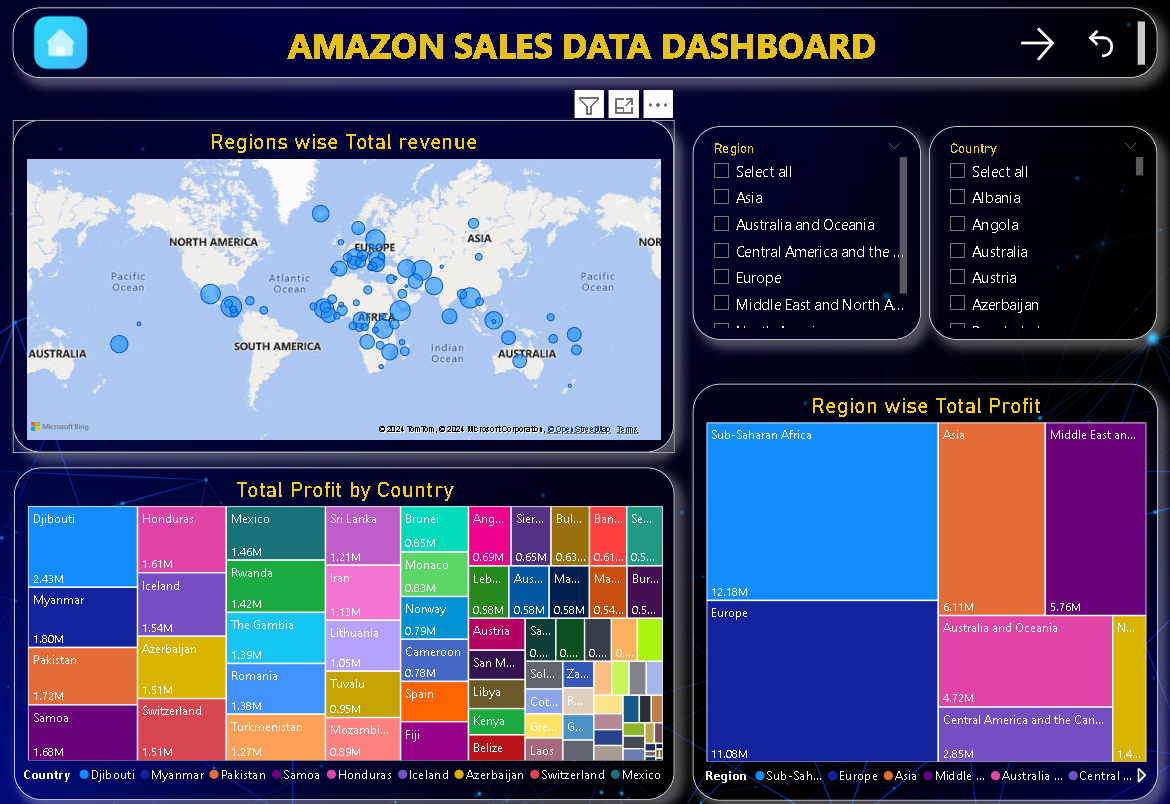

This screenshot's page, from the dashboard's own definition file:
{"tool":"powerbi","page":{"name":"Geographic Analysis","canvas":[1280,879],"ordinal":3},"visuals":[{"type":"textbox","box":[15.6,8.5,1247.6,76.7],"z":0},{"type":"slicer","fields":{"Values":["Amazon Sales data.Region"]},"box":[756,137.8,248.7,233],"z":1000},{"type":"map","title":"Regions wise Total revenue","fields":{"Category":["Amazon Sales data.Country"],"Size":["Sum(Amazon Sales data.Total Revenue)"]},"box":[15.6,130.7,720.4,362.3],"z":2000},{"type":"slicer","fields":{"Values":["Amazon Sales data.Country"]},"box":[1014.6,137.8,248.7,233],"z":3000},{"type":"treemap","title":"Total Profit by Country","fields":{"Group":["Amazon Sales data.Country"],"Values":["Sum(Amazon Sales data.Total Profit)"]},"box":[16,510,720,362],"z":4000},{"type":"treemap","title":"Region wise Total Profit","fields":{"Group":["Amazon Sales data.Region"],"Values":["Sum(Amazon Sales data.Total Profit)"]},"box":[756,417.8,507.3,454.7],"z":5000},{"type":"actionButton","box":[1181.4,27.1,48.6,40],"z":6000},{"type":"actionButton","box":[1108.6,24.3,64.3,47.1],"z":7000},{"type":"image","box":[30,7.1,74.3,78.6],"z":8000}]}

Visuals, with their boxes in screenshot pixels (x1, y1, x2, y2), scaled from the page's 1280x879 canvas onto the 1170x804 screenshot:
textbox: region(14, 8, 1155, 78)
slicer - Amazon Sales data.Region: region(691, 126, 918, 339)
"Regions wise Total revenue" map: region(14, 120, 673, 451)
slicer - Amazon Sales data.Country: region(927, 126, 1155, 339)
"Total Profit by Country" treemap: region(15, 466, 673, 798)
"Region wise Total Profit" treemap: region(691, 382, 1155, 798)
actionButton: region(1080, 25, 1124, 61)
actionButton: region(1013, 22, 1072, 65)
image: region(27, 6, 95, 78)
